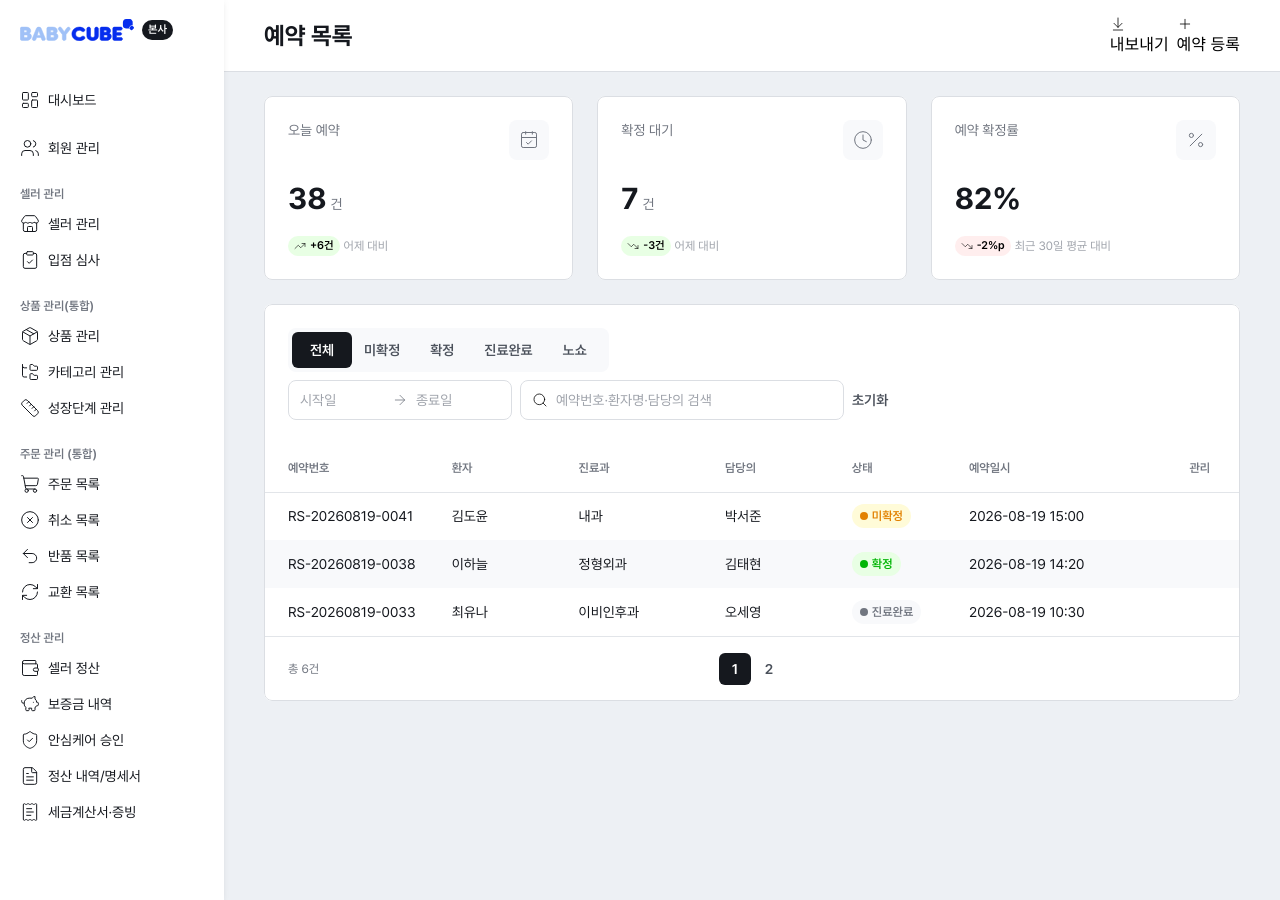
Test: ReservationListPage › 초기화 › 필터·검색을 건 뒤 초기화를 누르면 전체가 돌아온다
This screenshot has width=1280, height=900.
Click the radio button labelled "확정".
click(442, 350)  # box [412,332,472,368]
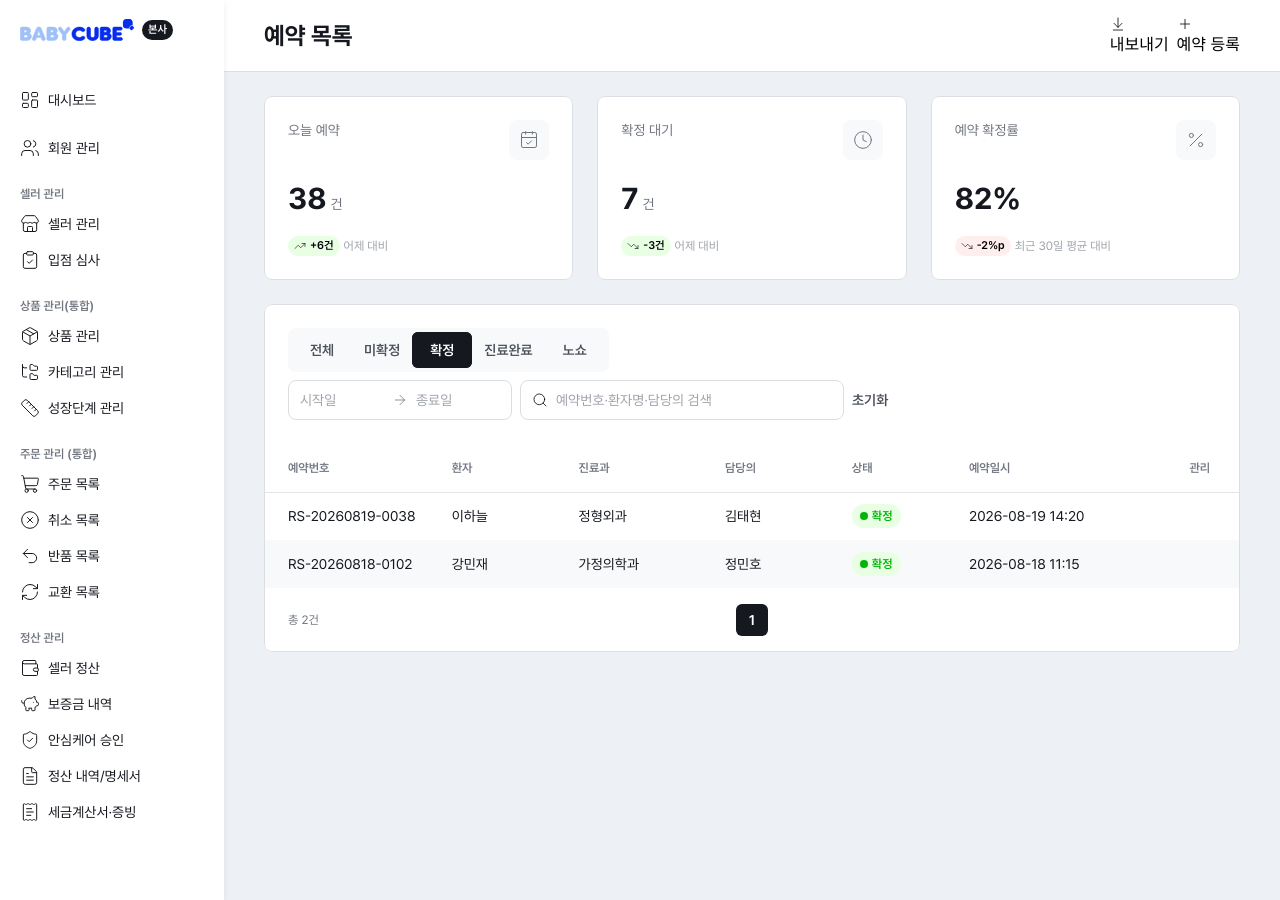
Type "이하늘" into the field.
click(694, 400); type("이하늘")  # box [556,388,832,412]
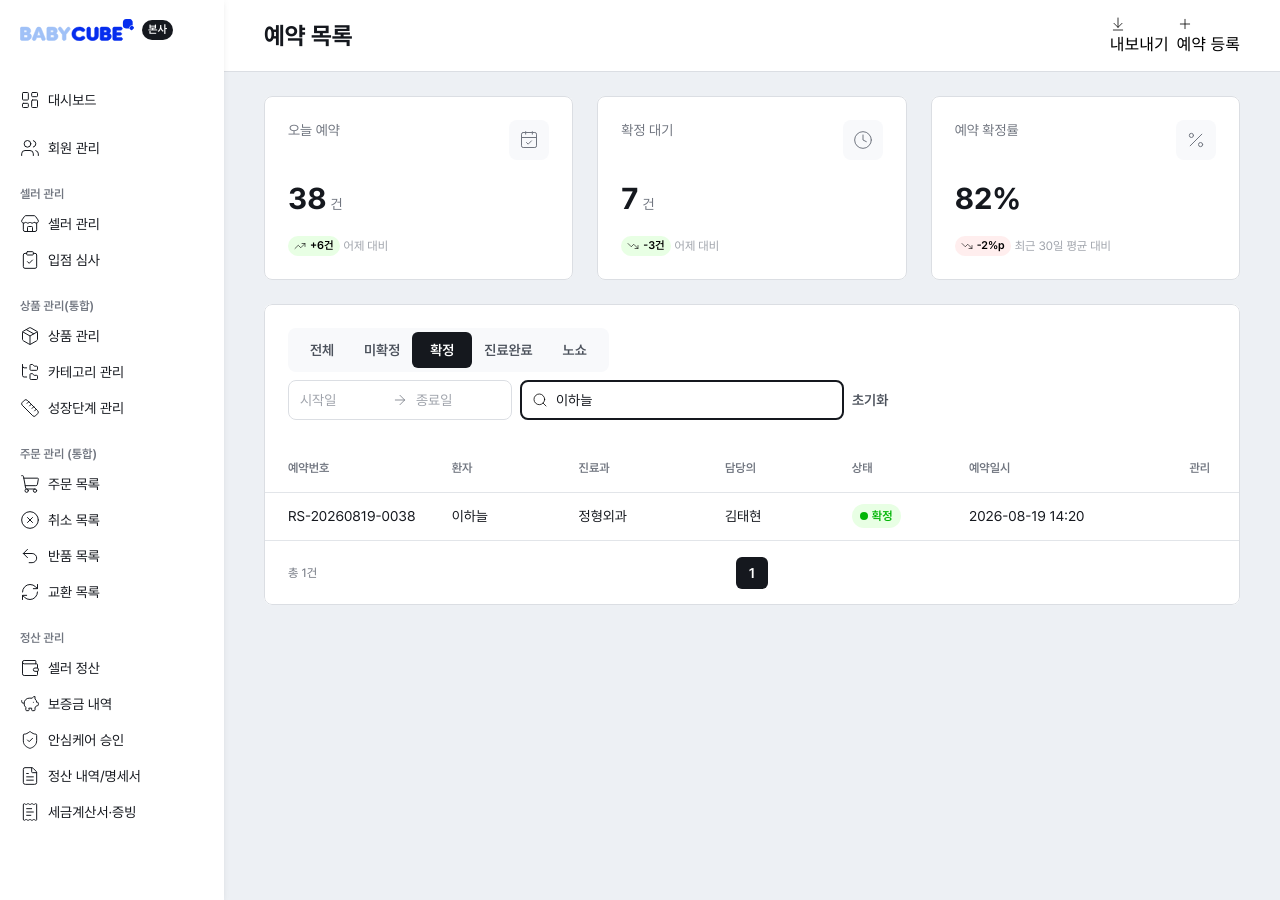
Click the button "초기화".
click(870, 400)  # box [852,388,888,412]
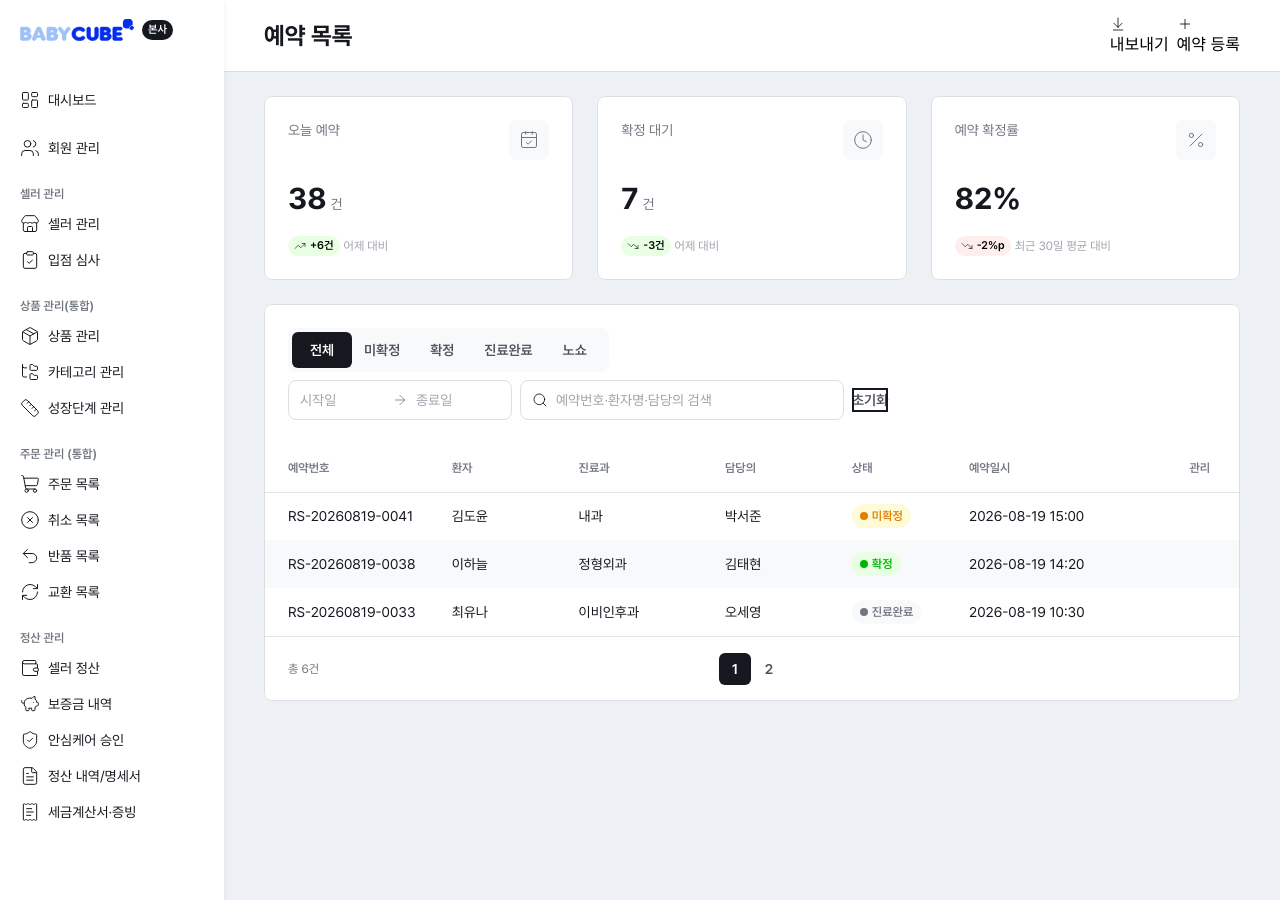
Result: the text "총 6건" is shown at [288,660,319,676]
Result: the radio button labelled "전체" is checked at [292,332,352,368]
Result: the field is empty at [556,388,832,412]
